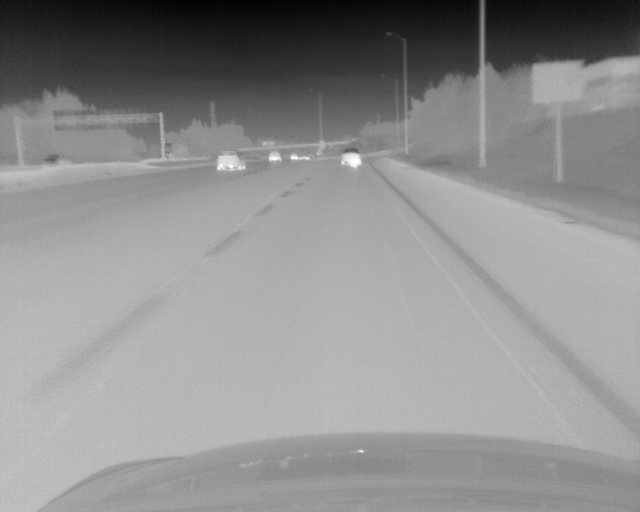car: (216, 150, 245, 171), (341, 151, 362, 166), (269, 150, 282, 163), (290, 153, 298, 160)
